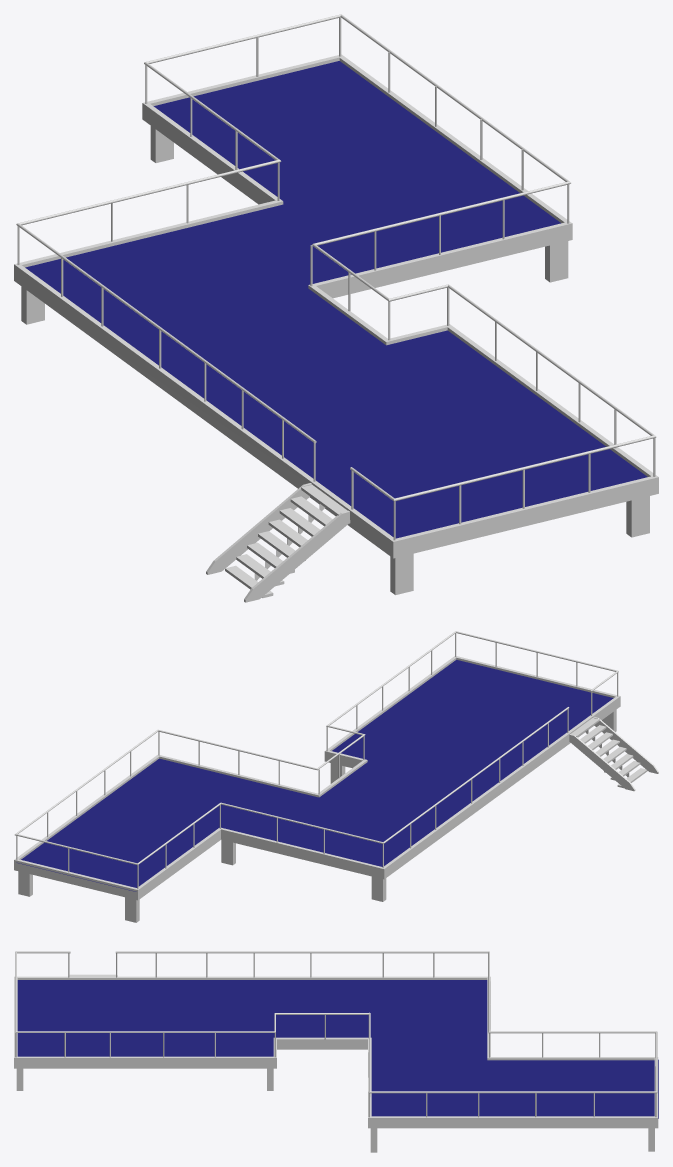
File: Platform_1_V2.FBX
3 renders of one model, top to bottom at view 1: azimuth 30°, elevation 25°; view 2: azimuth 150°, elevation 25°; view 3: azimuth 270°, elevation 25°, orthographic. The views are drawn at different scales.
Visible parts, largest first — view 1: Object112, Original Platform 2; view 2: Object112, Original Platform 2; view 3: Object112, Original Platform 2.
Boxes of the visible parts, x1=… form: Object112: x1=25, y1=61, x2=647, y2=538; Original Platform 2: x1=14, y1=14, x2=658, y2=602; Object112: x1=16, y1=659, x2=613, y2=891; Original Platform 2: x1=14, y1=631, x2=658, y2=922; Object112: x1=17, y1=980, x2=658, y2=1118; Original Platform 2: x1=14, y1=951, x2=658, y2=1152.
Bounding box in the file's own units: 1245 × 229 × 1957.
